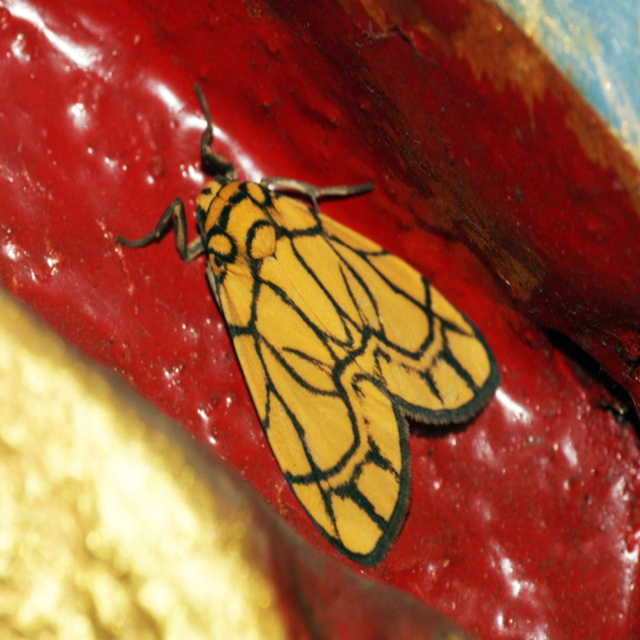Moths and butterflies: (114, 81, 501, 568)
